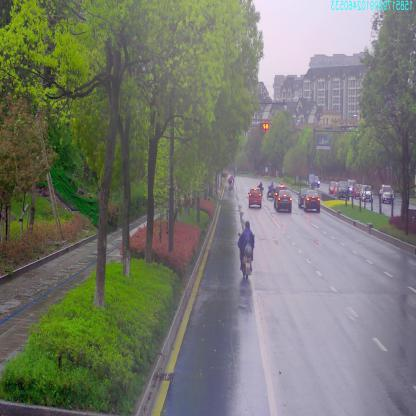traffic-light: (260, 119, 269, 130)
